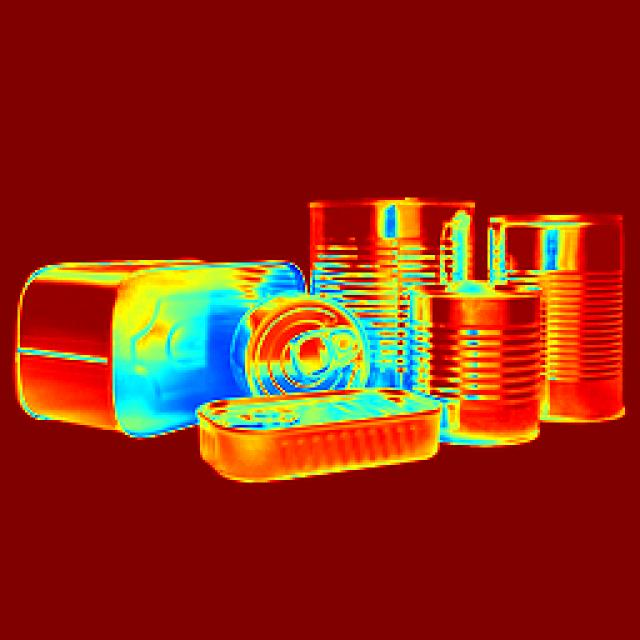Aluminium Food Cans: (17, 232, 274, 449), (468, 191, 632, 410), (308, 173, 482, 356), (205, 386, 442, 489), (410, 283, 542, 448)
